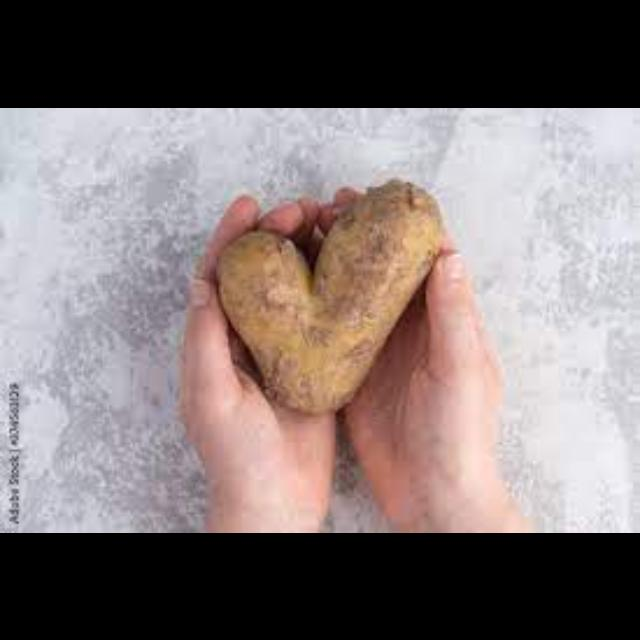Damaged potato: (212, 178, 448, 420)
